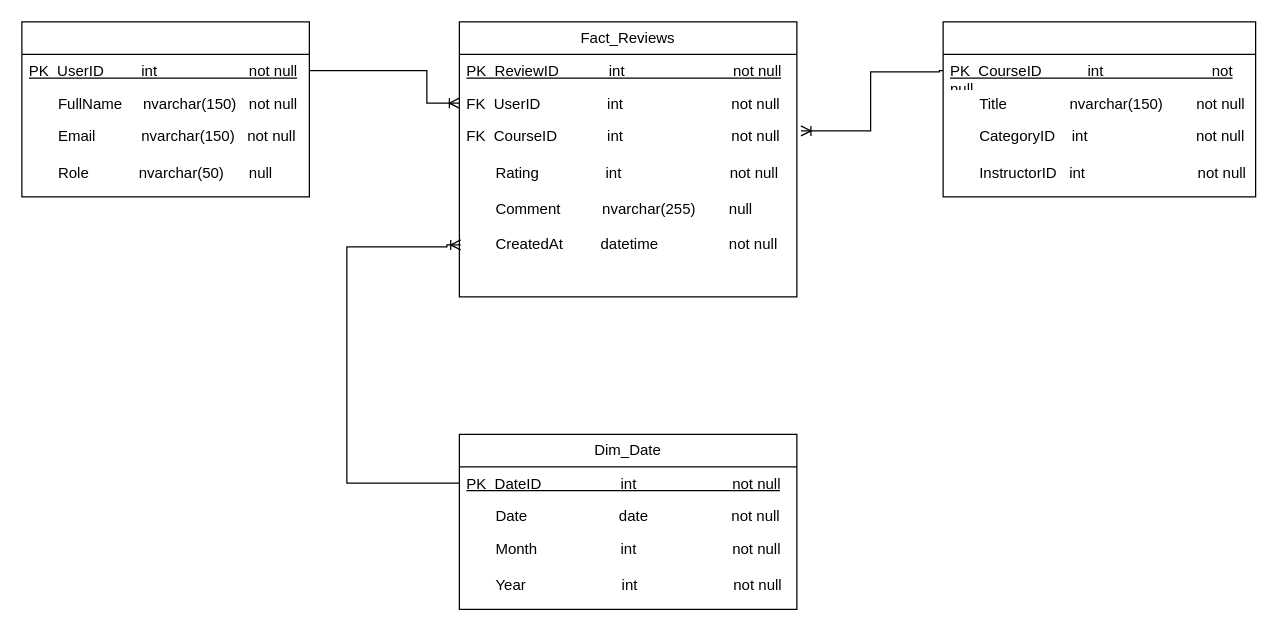
The diagram is 1278 pixels wide and 635 high, and some of its shapes have lost their labels. Here are the shapes that lost their labels. From the top down, the box of each, then its label:
(21, 21, 309, 197): Dim_User
(942, 21, 1256, 197): Dim_Course
